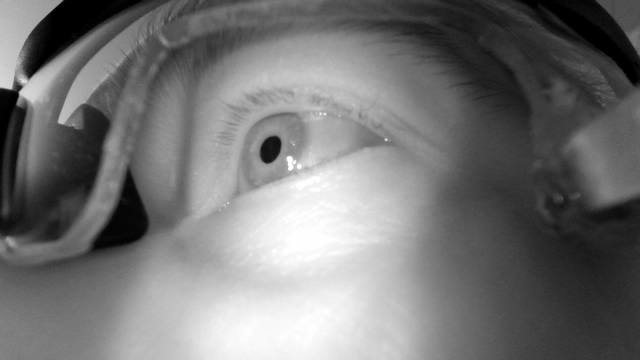pupil: (259, 135, 282, 165)
